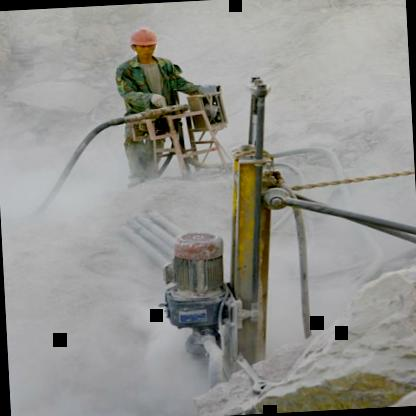helmet: (128, 26, 160, 63)
